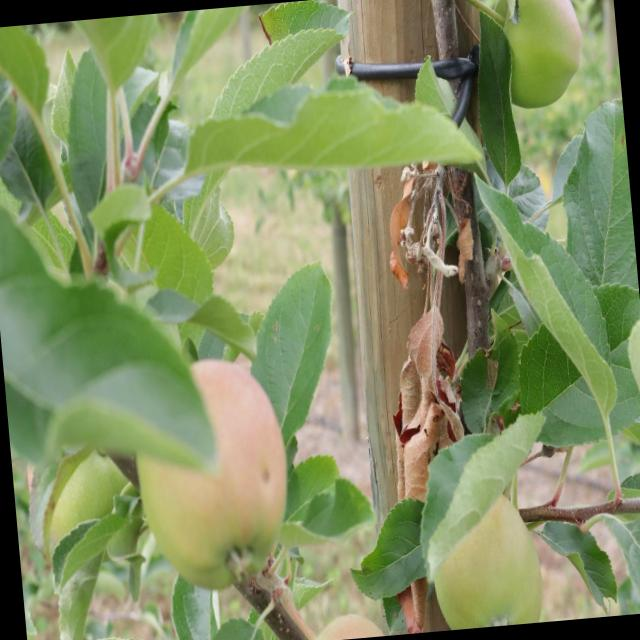-FireBlight-: (384, 152, 500, 464)
